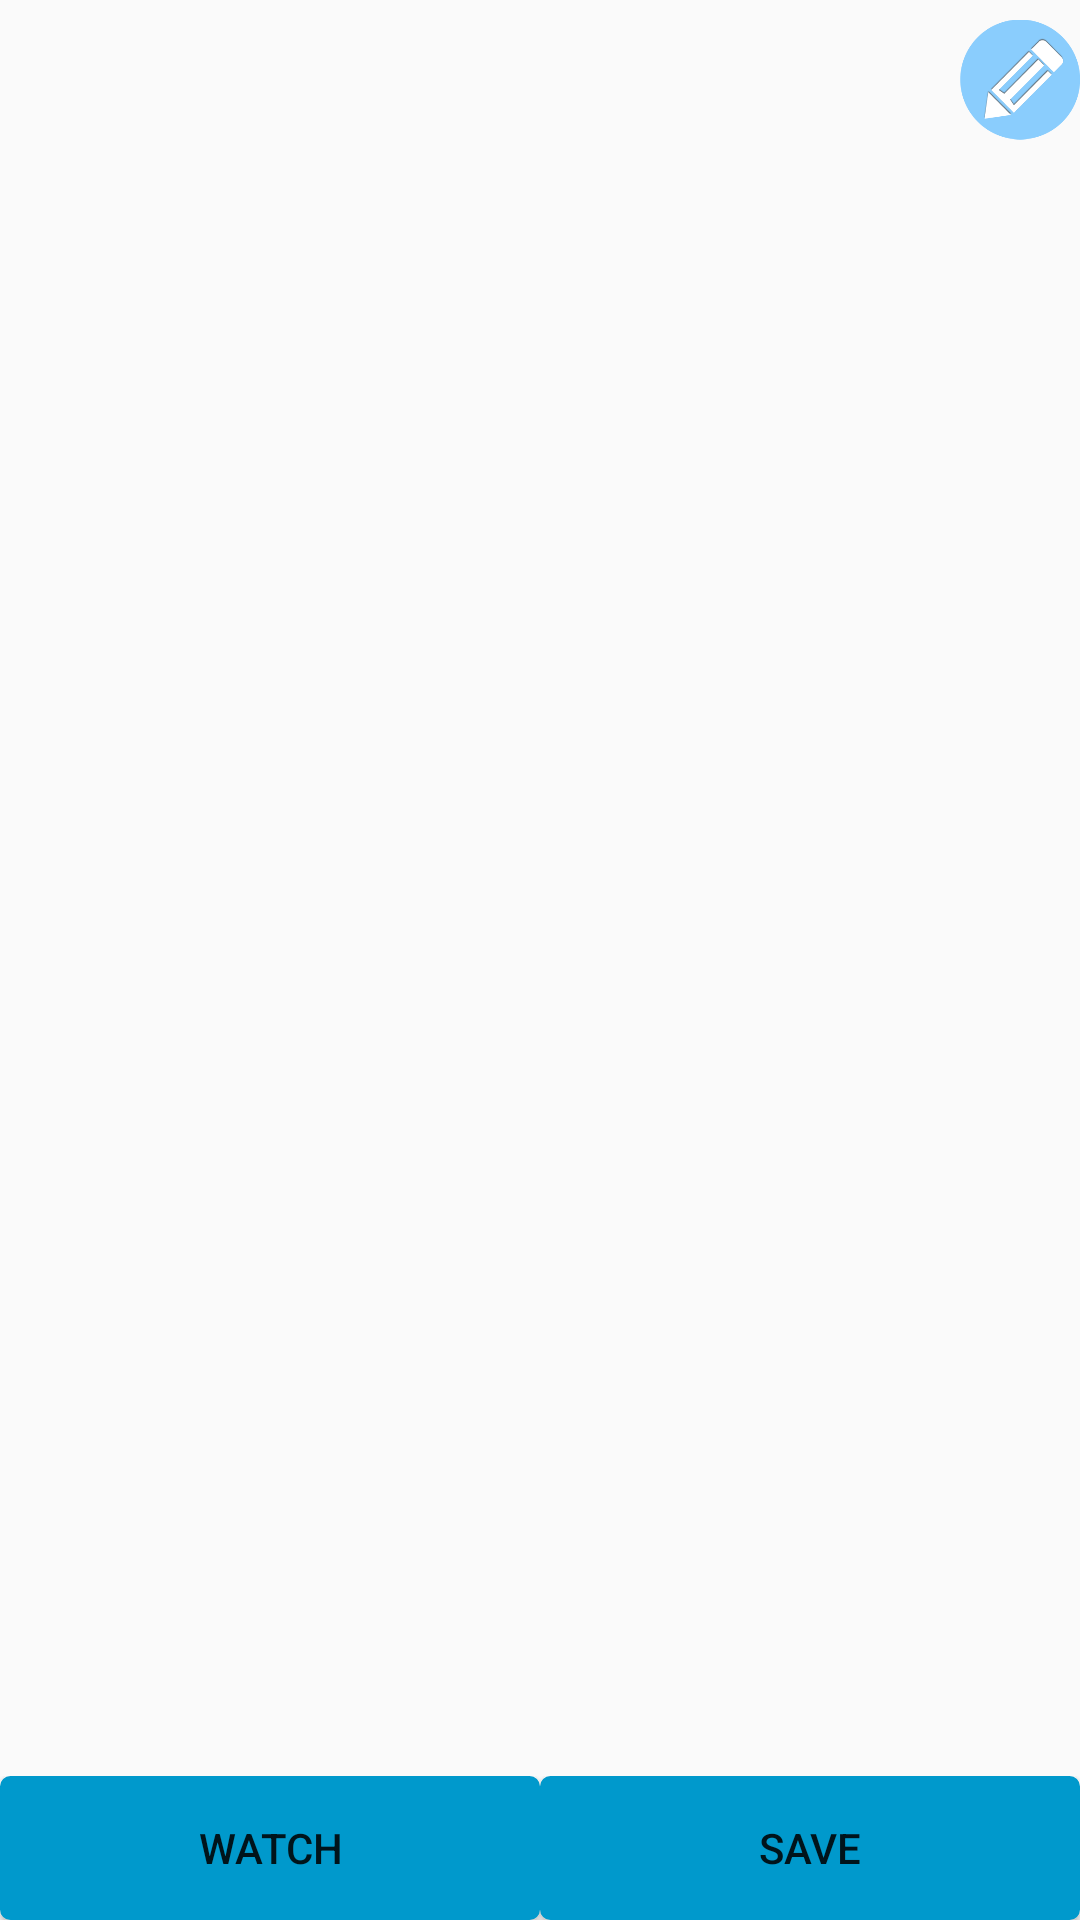

Icons on this 1080px×1920px Android screen, each with the point to tap as (x,y):
edit: (1020,80)
